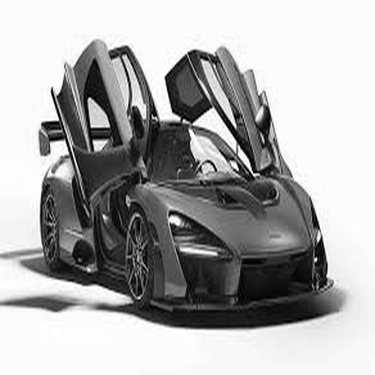car: (30, 32, 339, 319)
